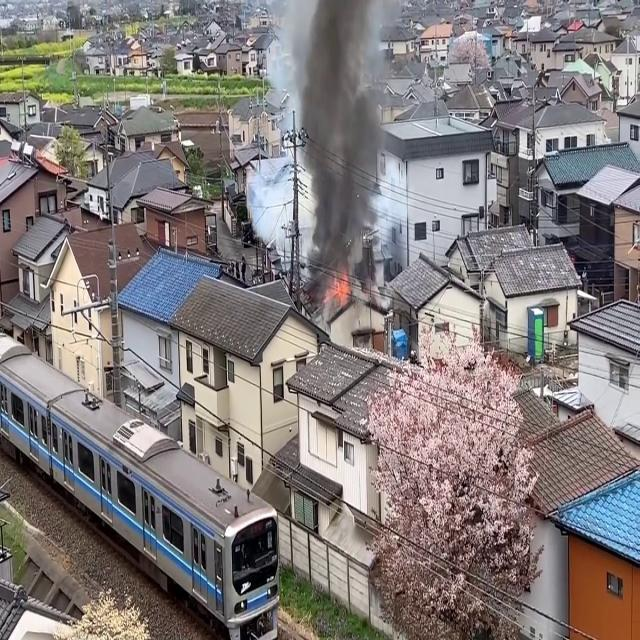Fire: (323, 263, 355, 309)
Smoke: (291, 0, 389, 268)
